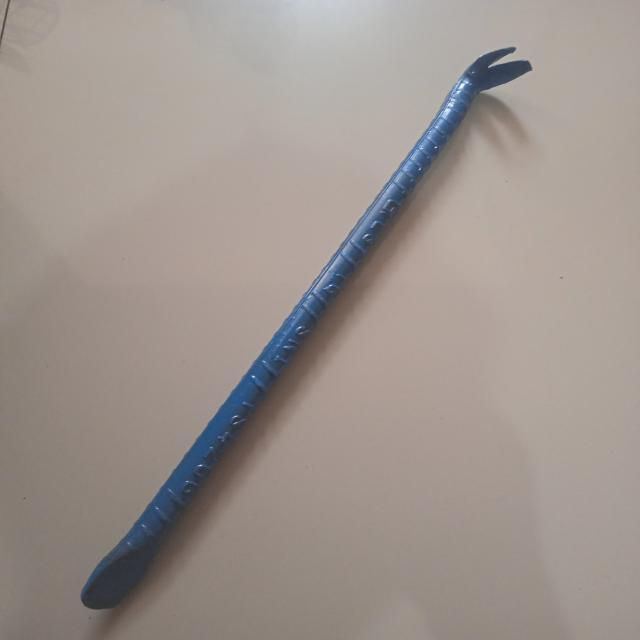Linggis: (70, 29, 545, 640)
